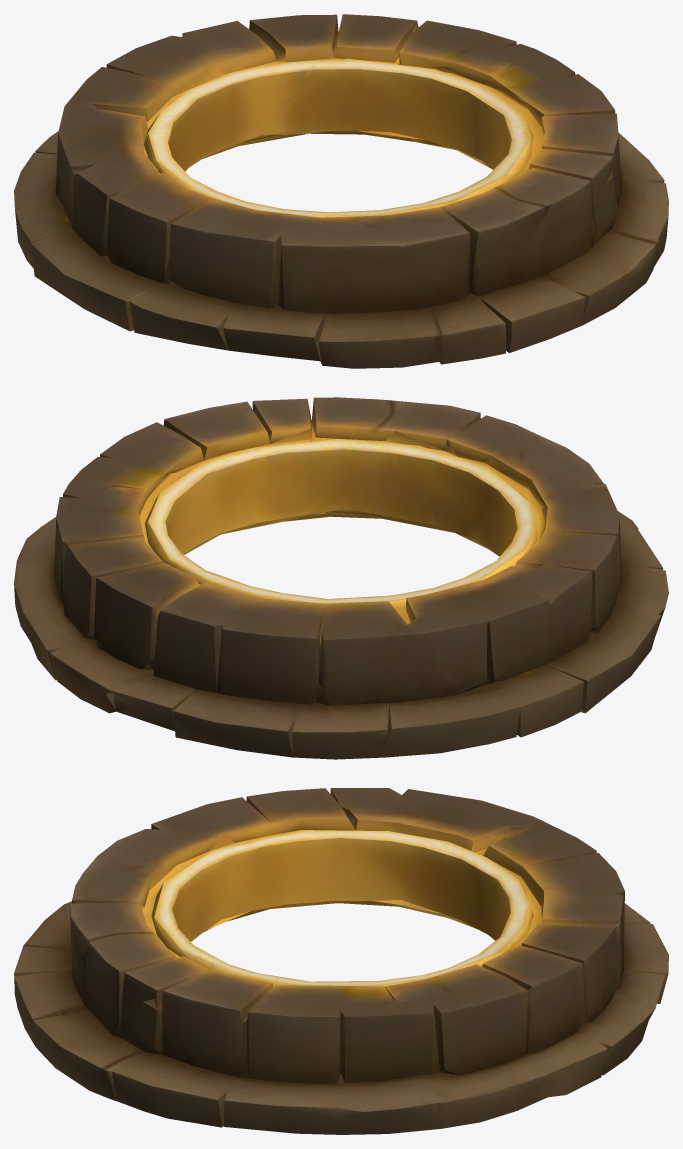
Rendered from m2TimingRing.glb.
3 views of the same model, one above another, from view 1: azimuth 30°, elevation 25°; view 2: azimuth 150°, elevation 25°; view 3: azimuth 270°, elevation 25° (orthographic). The views are drawn at different scales.
Visible parts, largest first — view 1: model; view 2: model; view 3: model.
Boxes of the visible parts, x1,y1,x2,y2 form: model: (14,14,668,368); model: (14,397,668,759); model: (14,788,668,1134).
Bounding box in the file's own units: 1.88 × 0.3338 × 1.9.
1 material, 1 textured.
